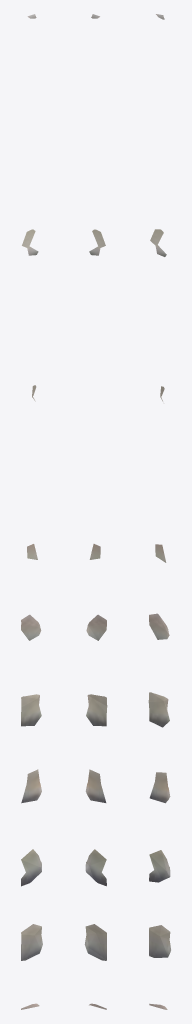
Rendered from Tile__003__000_L21_0001020.glb.
3 views of the same model, side by side, from view 1: azimuth 30°, elevation 25°; view 2: azimuth 150°, elevation 25°; view 3: azimuth 330°, elevation 25° (orthographic).
Parts seen in each view (by area): view 1: root; view 2: root; view 3: root.
Boxes of the visible parts, left/top/right/bottom form: root: left=21, top=14, right=42, bottom=1009; root: left=84, top=14, right=107, bottom=1009; root: left=148, top=14, right=170, bottom=1009.
Size of the model in its own units: 0.6533 by 28.2 by 0.0739.
Materials: 1 (1 with a texture image).
